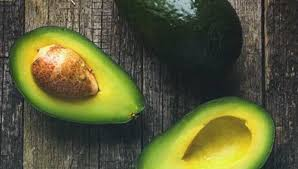aguacate: (6, 27, 150, 137), (113, 2, 246, 87), (135, 93, 278, 169)
